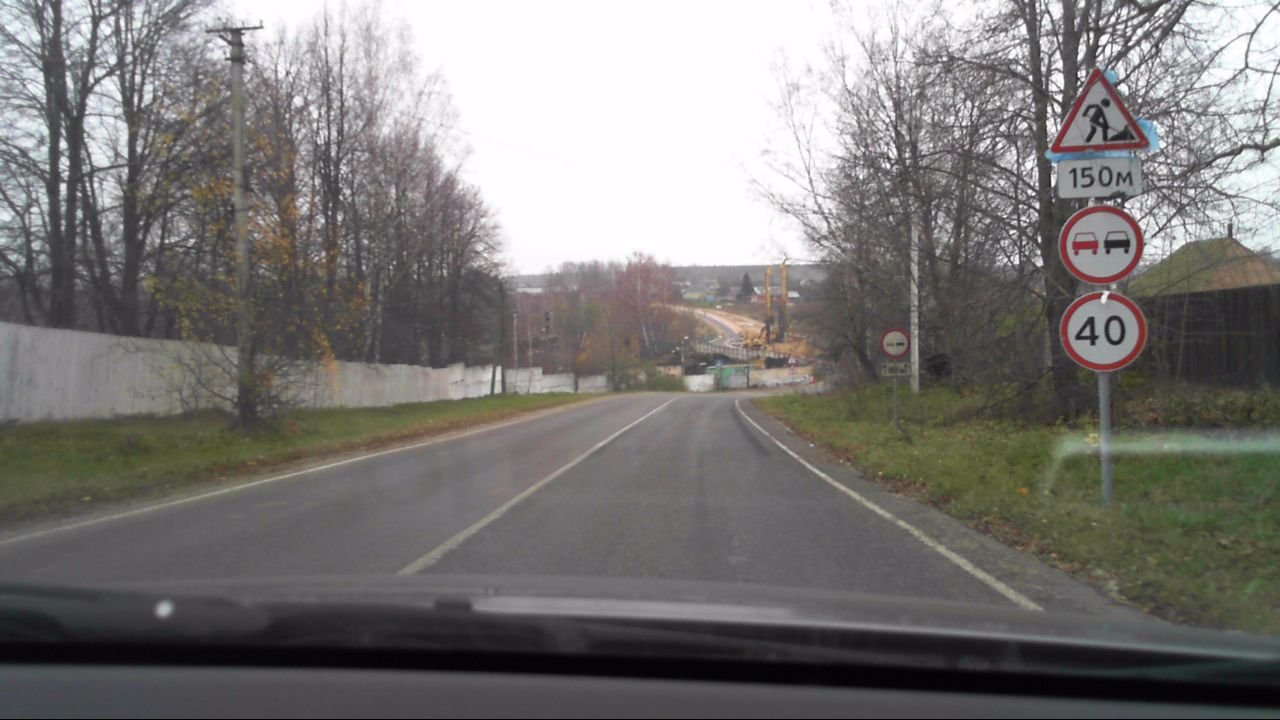speed_warning_40: (1056, 291, 1148, 372)
